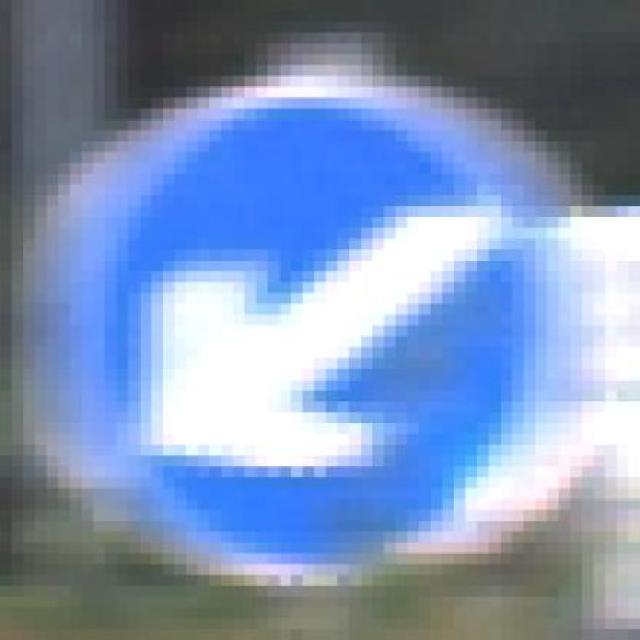Keep-Left: (58, 86, 582, 597)
